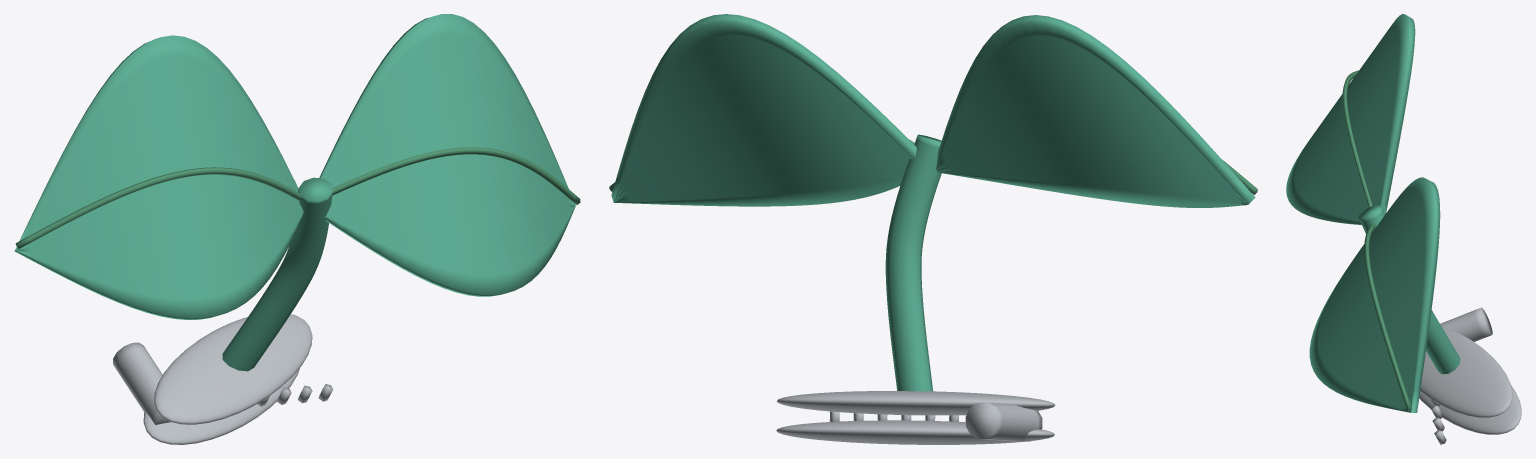
Rendered from Masculine-curly-top-none252-sprout.glb.
The picture shows the model from 3 angles, left to right: view 1: azimuth 30°, elevation 25°; view 2: azimuth 150°, elevation 25°; view 3: azimuth 270°, elevation 25°; orthographic projection. The views are drawn at different scales.
Parts seen in each view (by area): view 1: 226 extra / Accessory / mint226, 226 extra / Sprout / clip silver235, 226 extra / Sprout / leaf vein235; view 2: 226 extra / Accessory / mint226, 226 extra / Sprout / clip silver235; view 3: 226 extra / Accessory / mint226, 226 extra / Sprout / clip silver235, 226 extra / Sprout / leaf vein235.
Part boxes in pixels (bbox=[...]): 226 extra / Accessory / mint226: bbox=[14, 14, 575, 371]; 226 extra / Sprout / clip silver235: bbox=[113, 314, 333, 444]; 226 extra / Sprout / leaf vein235: bbox=[15, 147, 580, 249]; 226 extra / Accessory / mint226: bbox=[611, 14, 1255, 391]; 226 extra / Sprout / clip silver235: bbox=[776, 391, 1055, 444]; 226 extra / Accessory / mint226: bbox=[1286, 14, 1460, 412]; 226 extra / Sprout / clip silver235: bbox=[1419, 307, 1521, 444]; 226 extra / Sprout / leaf vein235: bbox=[1342, 70, 1411, 410].
Bounding box in the file's own units: 0.2657 × 0.1813 × 0.1107.
